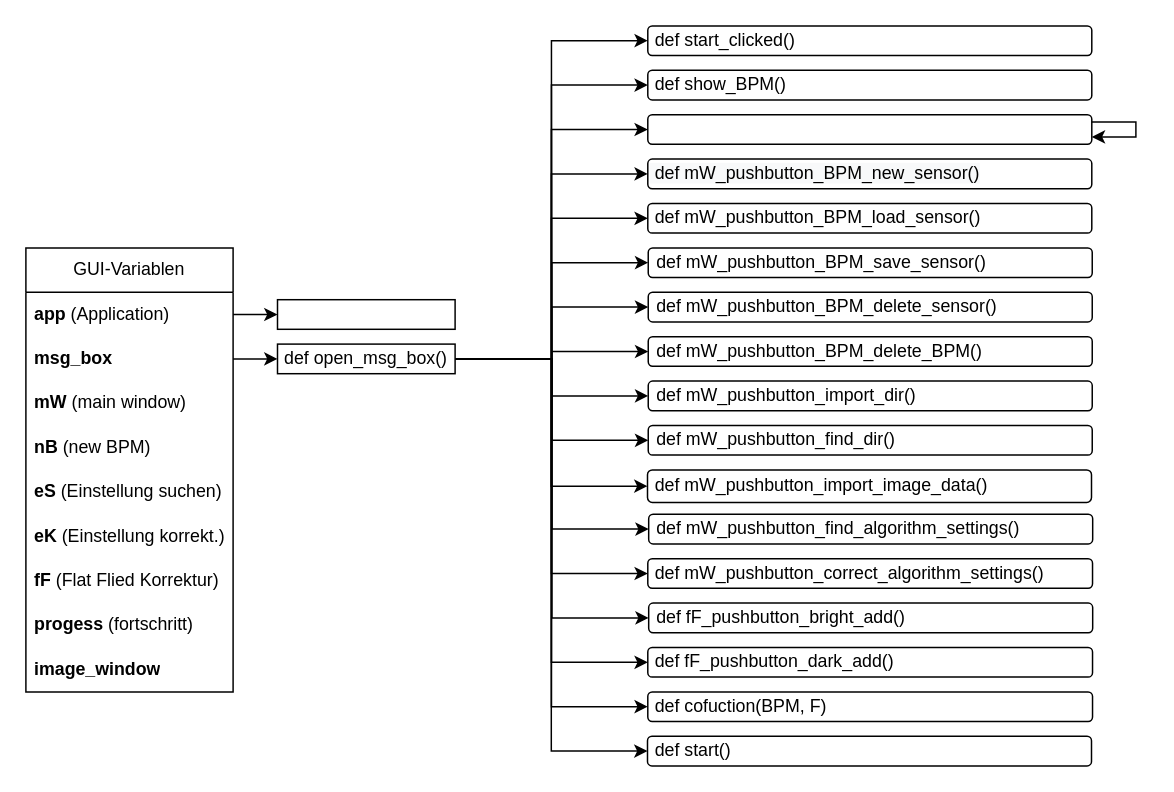
Image size: 1174x792. Some labels were removed from this diagram. The shapes that lost their labels are listed below. From the top down, each one's centre as x and y in pixels, then its label:
point 869,128: def open_FFK_window()
point 365,313: sys.exit(app.exec())
